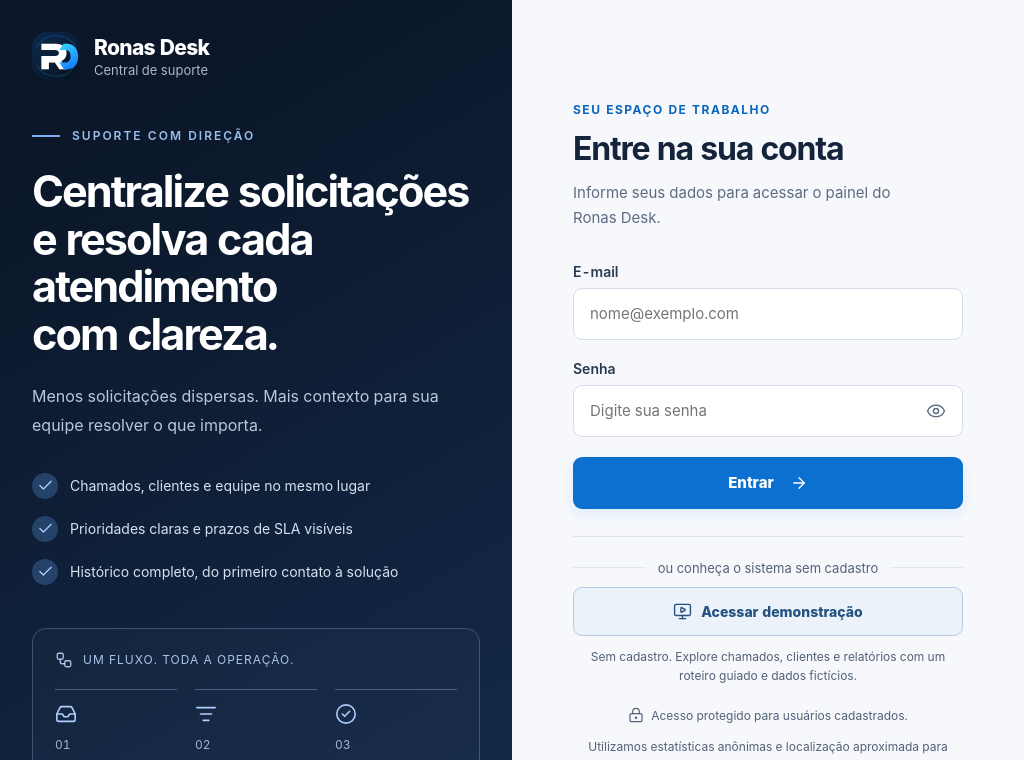
Test case: Login › exibe o erro retornado quando o acesso à demonstração falha
Click the button "Acessar demonstração": coordinates (768, 611) [573, 587, 963, 636]
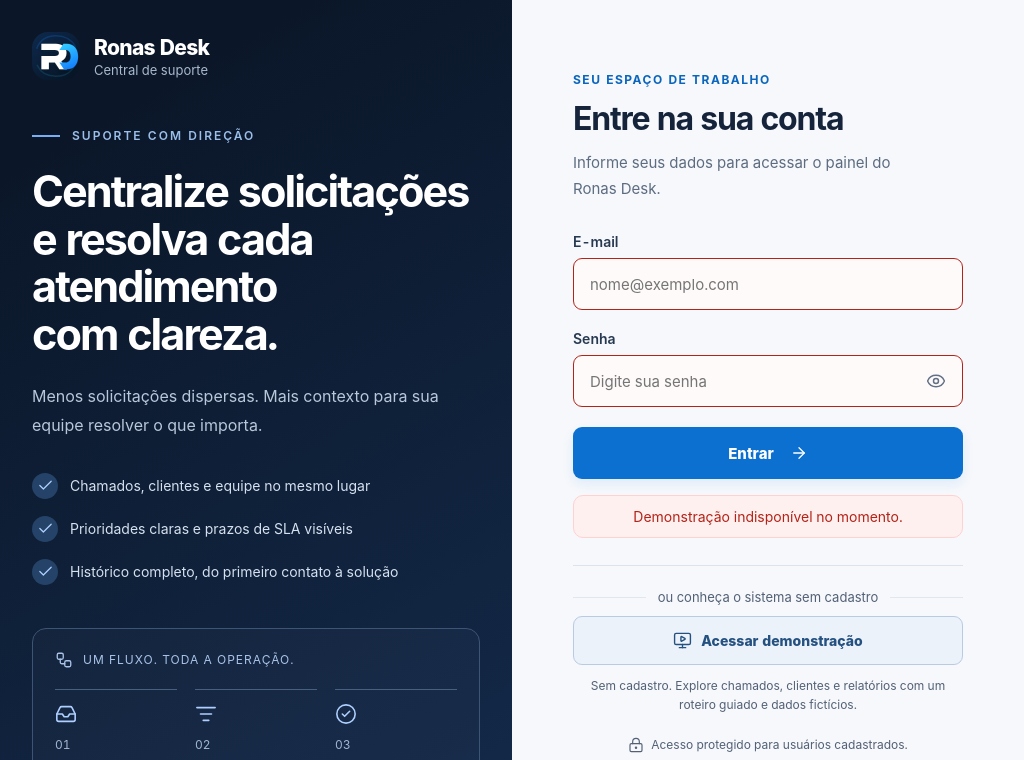
Expected: the message reads "Demonstração indisponível no momento.", [633, 508, 903, 525]
